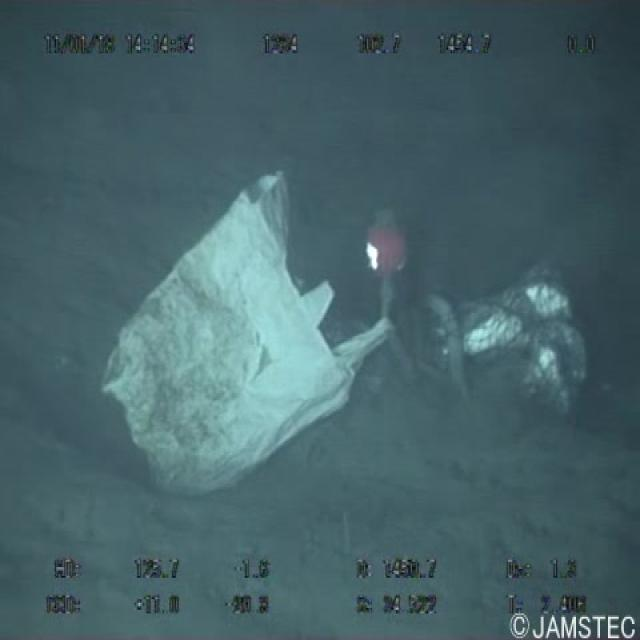plastic: (88, 162, 395, 494), (39, 551, 637, 638)
